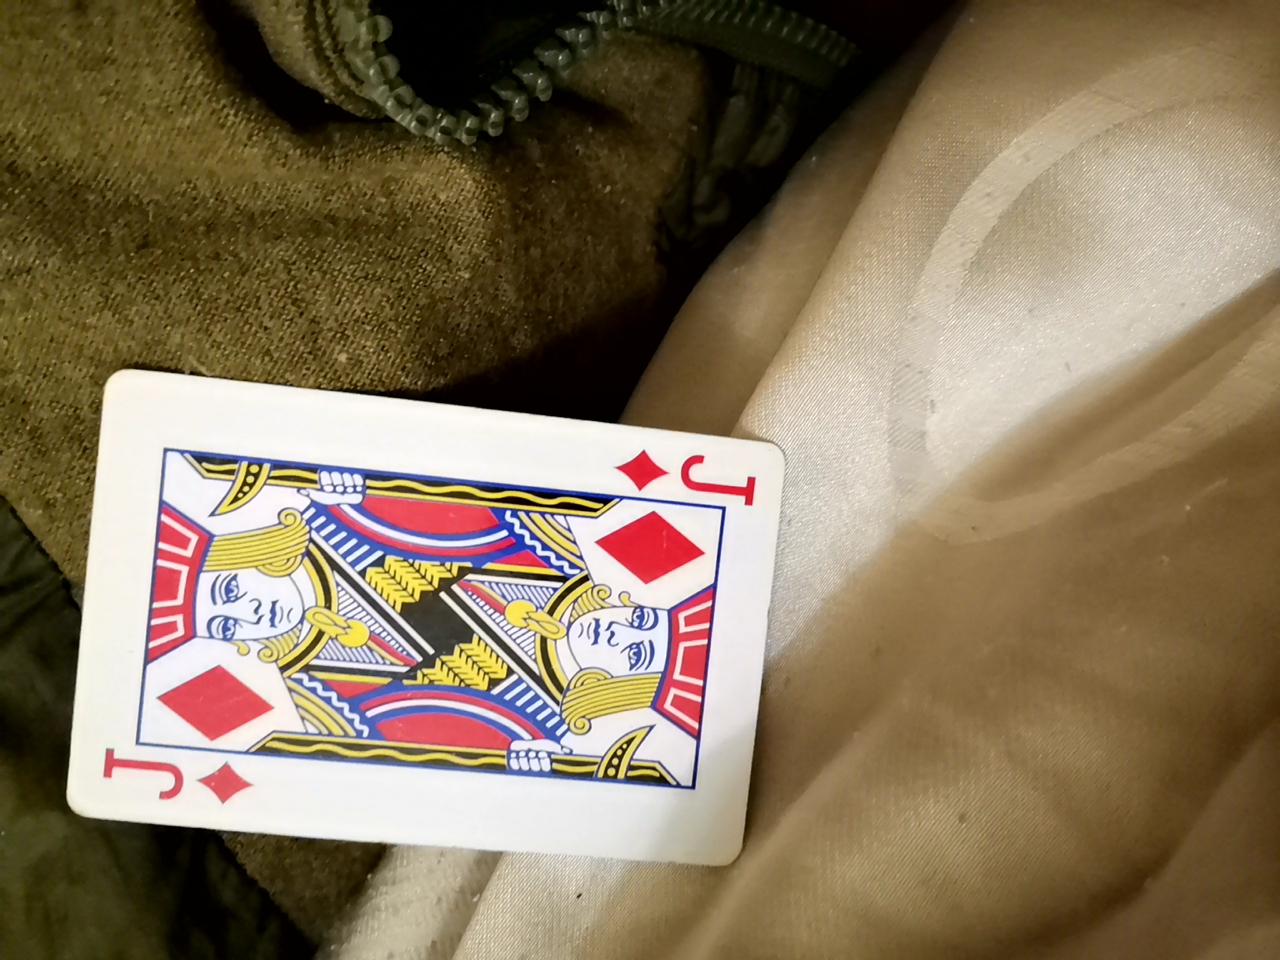fk j: (60, 386, 780, 876)
